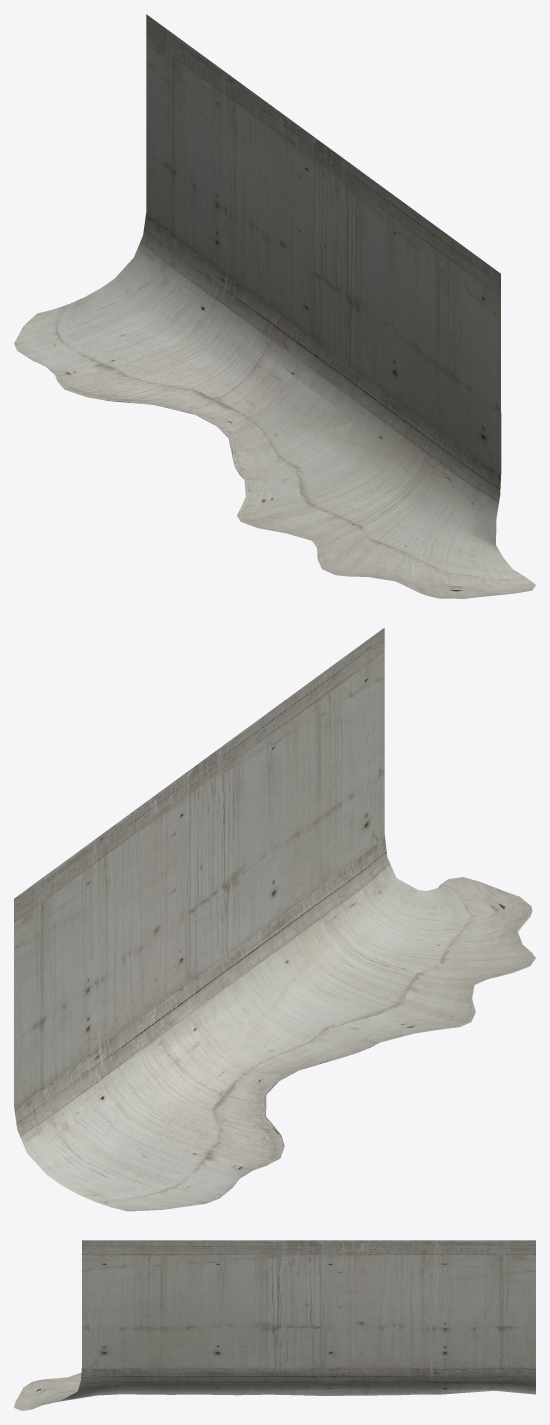
Rendered from Draped_wall.FBX.
The picture shows the model from 3 angles, top to bottom: view 1: azimuth 30°, elevation 25°; view 2: azimuth 150°, elevation 25°; view 3: azimuth 270°, elevation 25°; orthographic projection. The views are drawn at different scales.
Visible parts, largest first — view 1: Plane028; view 2: Plane028; view 3: Plane028.
Part boxes in pixels (<box>): Plane028: <box>14,14,535,598</box>; Plane028: <box>14,627,535,1211</box>; Plane028: <box>14,1240,535,1410</box>.
Size of the model in its own units: 195 by 296 by 803.
1 material, 1 textured.
